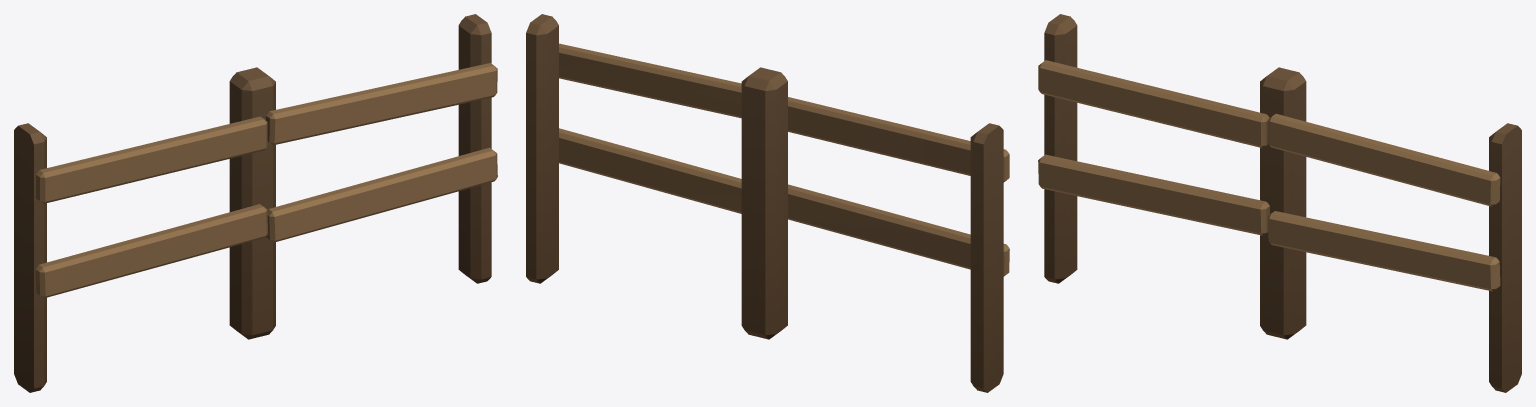
Rendered from pagar.glb.
3 views of the same model, side by side, from view 1: azimuth 30°, elevation 25°; view 2: azimuth 150°, elevation 25°; view 3: azimuth 330°, elevation 25° (orthographic).
Parts seen in each view (by area): view 1: pagar_mesh; view 2: pagar_mesh; view 3: pagar_mesh.
Boxes of the visible parts, bbox=[...] form: pagar_mesh: bbox=[14, 14, 497, 392]; pagar_mesh: bbox=[526, 14, 1009, 392]; pagar_mesh: bbox=[1038, 14, 1521, 392].
Bounding box in the file's own units: 2 × 1.08 × 0.21.
